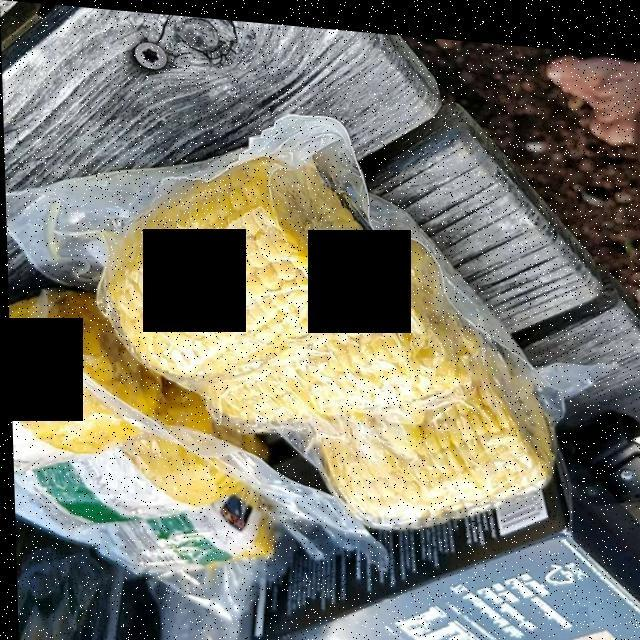corn: (69, 168, 545, 523)
